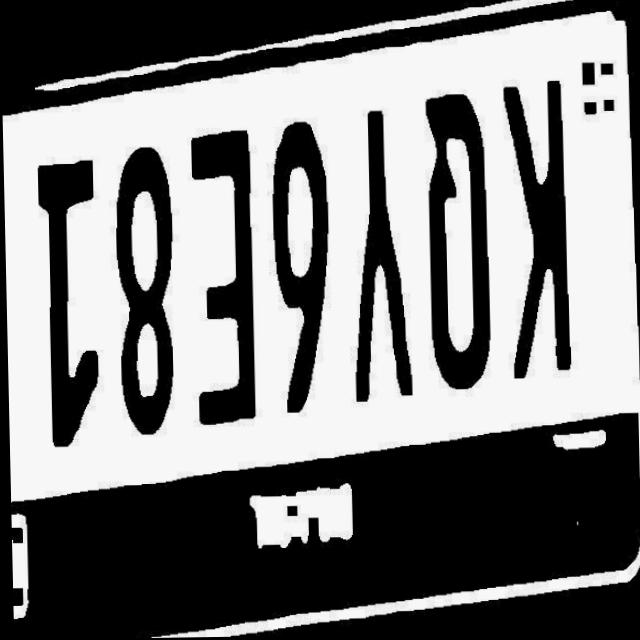1: (27, 150, 104, 455)
6: (265, 114, 337, 419)
8: (107, 141, 182, 447)
e: (184, 122, 264, 440)
k: (497, 77, 575, 389)
q: (421, 87, 499, 395)
y: (339, 101, 421, 407)
